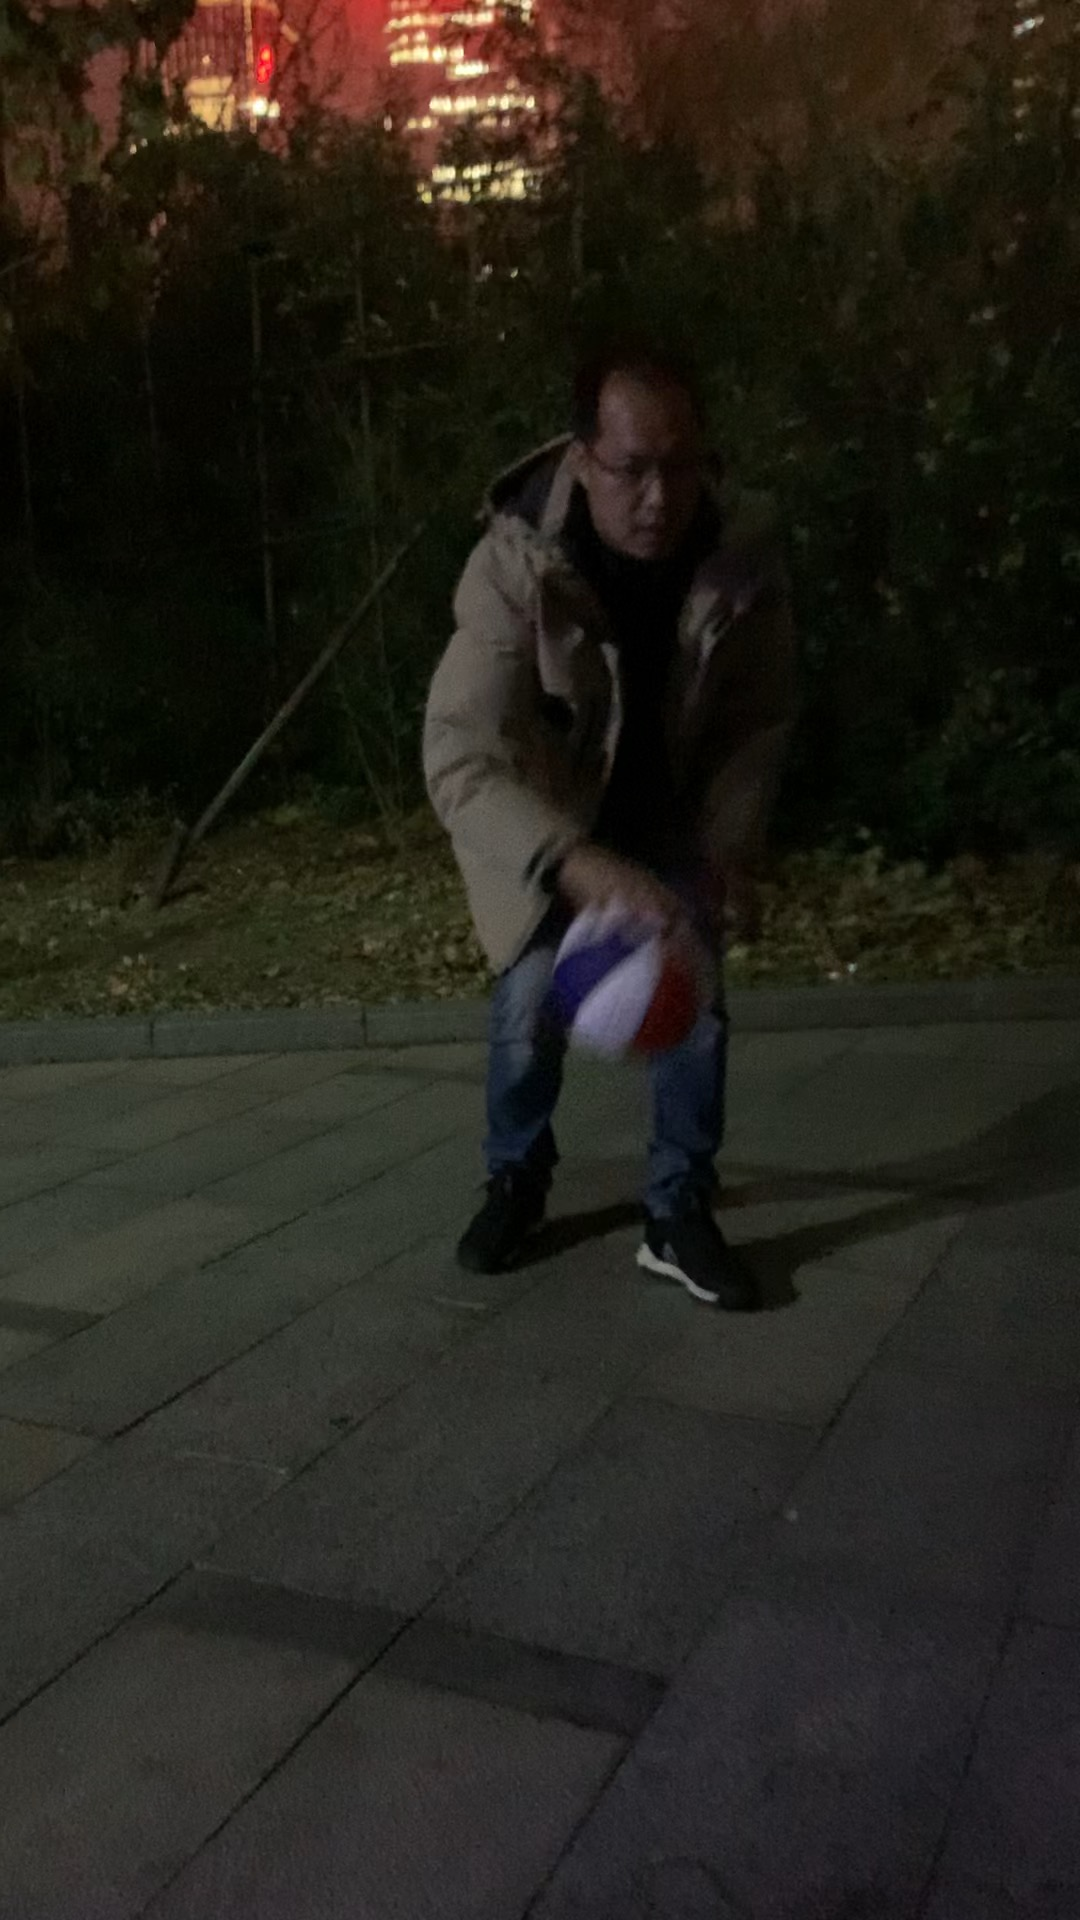ball: (546, 902, 711, 1068)
